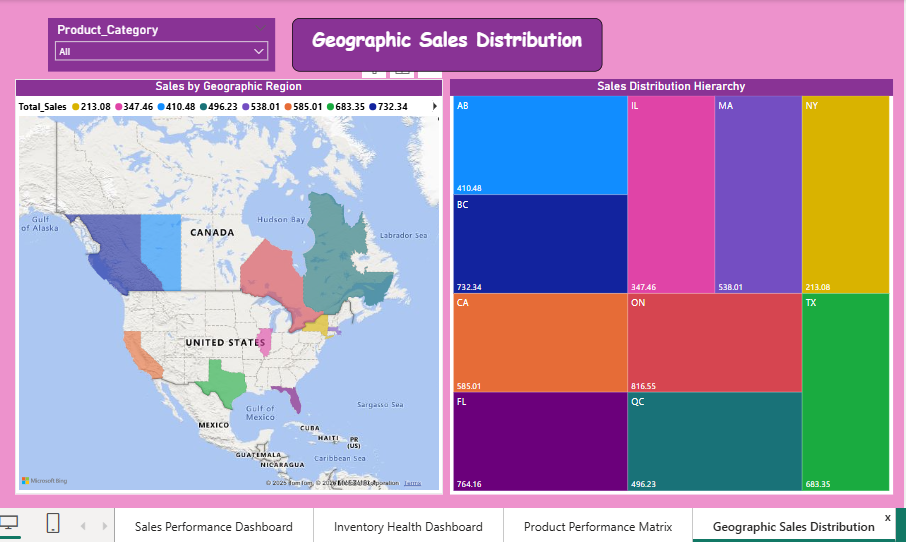

Layout of this report page (visuals, bound fields, positions):
{"tool":"powerbi","page":{"name":"Geographic Sales Distribution","canvas":[1280,720],"ordinal":3},"visuals":[{"type":"filledMap","title":"Sales by Geographic Region","fields":{"Category":["vw_Geographic_Sales.State"],"Series":["vw_Geographic_Sales.Total_Sales"]},"box":[21.7,111.8,605.8,588.7],"z":0},{"type":"treemap","title":"Sales Distribution Hierarchy","fields":{"Group":["vw_Geographic_Sales.State","vw_Geographic_Sales.Warehouse_Location"],"Values":["CountNonNull(vw_Geographic_Sales.Total_Sales)"],"Details":["vw_Geographic_Sales.Total_Sales"]},"box":[638.4,111.8,627.6,588.7],"z":1000},{"type":"textbox","box":[413.2,24.9,439.6,76.1],"z":2000},{"type":"slicer","fields":{"Values":["vw_Product_Performance.Product_Category"]},"box":[68.3,24.9,321.6,76.1],"z":3000}]}

Visuals, with their boxes in screenshot pixels (x1, y1, x2, y2):
"Sales by Geographic Region" filledMap: l=18, t=78, r=440, b=489
"Sales Distribution Hierarchy" treemap: l=448, t=78, r=886, b=489
textbox: l=291, t=17, r=598, b=71
slicer - vw_Product_Performance.Product_Category: l=50, t=17, r=275, b=71
